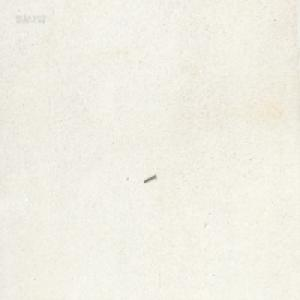Bolt: (142, 173, 155, 183)
